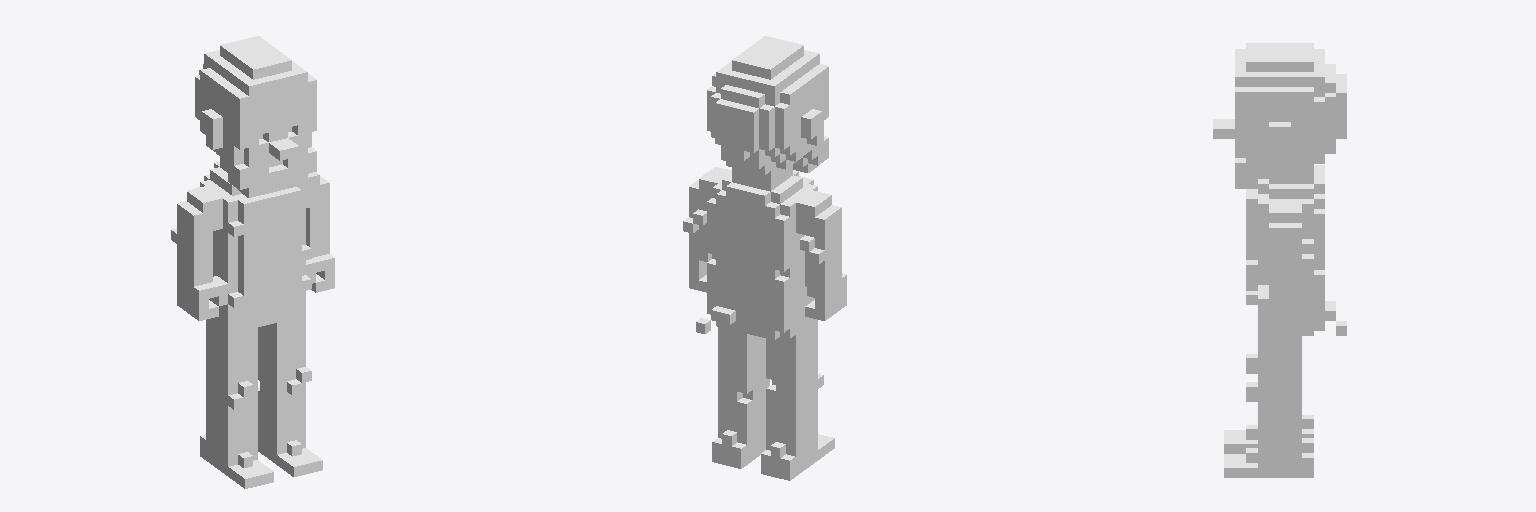
The model's file is ian.vox.obj.
The picture shows the model from 3 angles: view 1: azimuth 30°, elevation 25°; view 2: azimuth 150°, elevation 25°; view 3: azimuth 270°, elevation 25°; orthographic projection.
Parts seen in each view (by area): view 1: object 1; view 2: object 1; view 3: object 1.
Boxes of the visible parts, x1,y1,x2,y2 form: object 1: [171, 36, 334, 488]; object 1: [683, 36, 846, 480]; object 1: [1213, 43, 1346, 477].
Size of the model in its own units: 1.4 by 4 by 1.2.